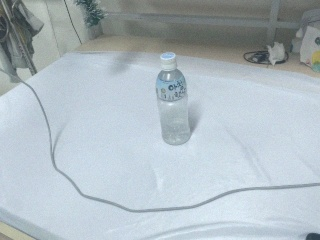bottle: (155, 52, 190, 146)
